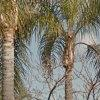Palm tree: (51, 9, 92, 98)
